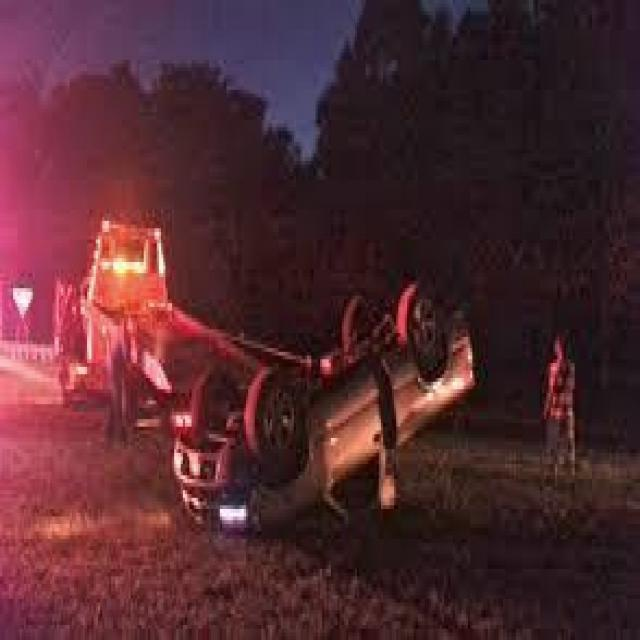single accident: (117, 239, 481, 574)
